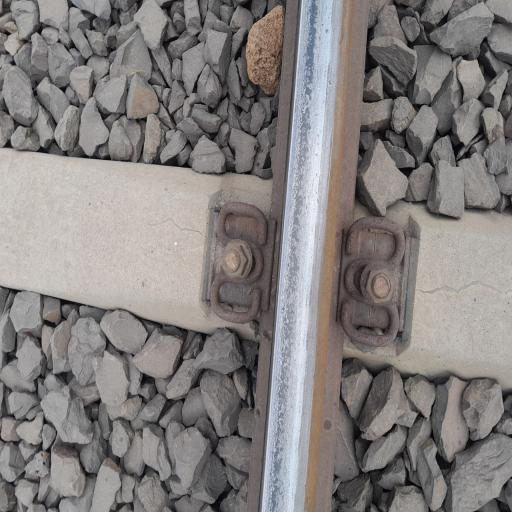bolt: (206, 225, 259, 304), (348, 245, 405, 317)
clip: (329, 192, 423, 379), (187, 184, 276, 355)
rail: (248, 23, 367, 468)
